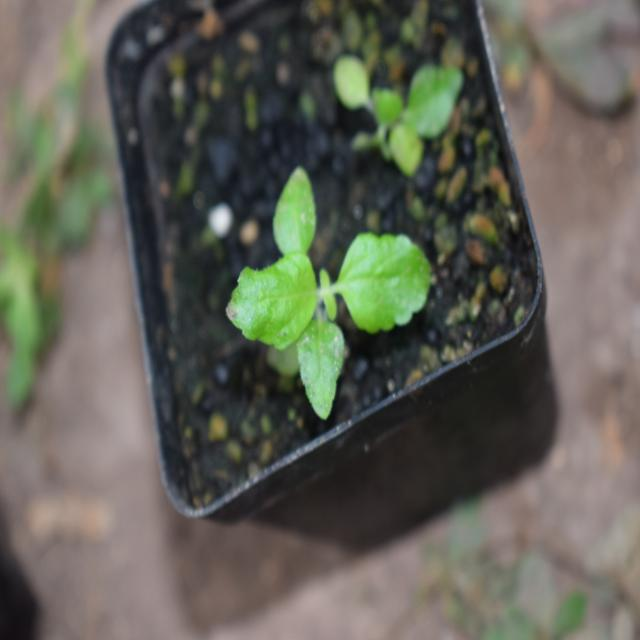billygoat_weed: (224, 160, 414, 415)
